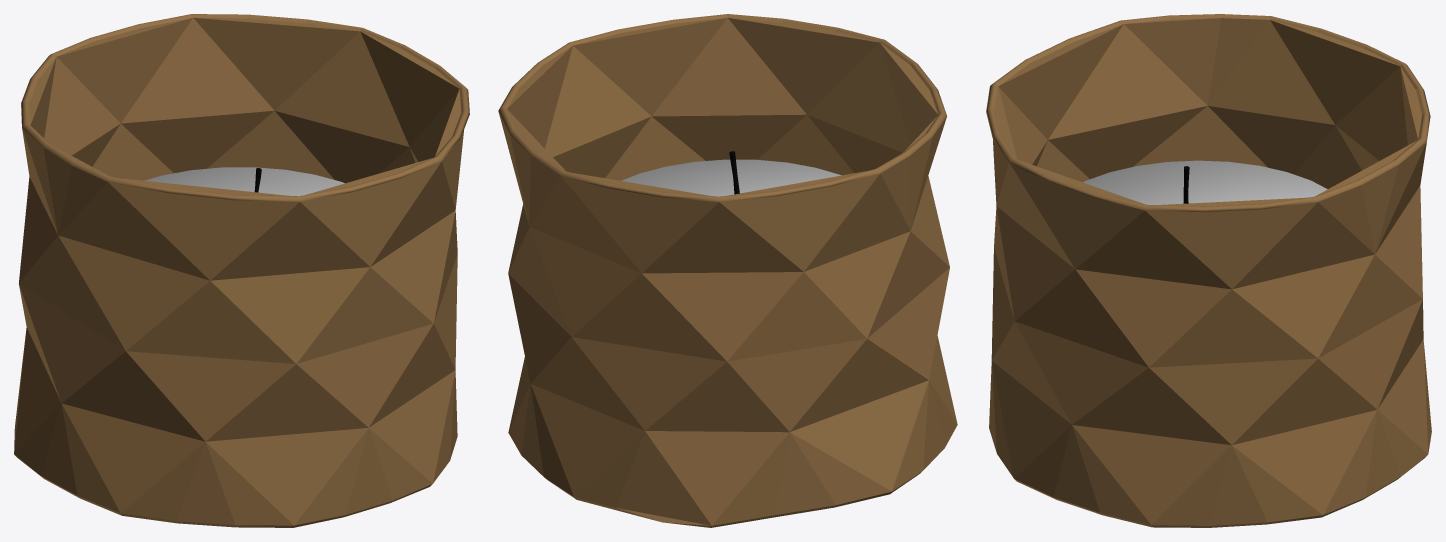
The model's file is Square05NH.obj.
3 renders of one model, left to right at view 1: azimuth 30°, elevation 25°; view 2: azimuth 150°, elevation 25°; view 3: azimuth 270°, elevation 25°, orthographic.
Visible parts, largest first — view 1: 円柱.006, 円柱.008; view 2: 円柱.006, 円柱.008; view 3: 円柱.006, 円柱.008.
Part boxes in pixels (x1,y1,x2,y2): 円柱.006: (14, 14, 469, 527); 円柱.008: (144, 167, 344, 196); 円柱.006: (498, 14, 957, 527); 円柱.008: (621, 151, 841, 196); 円柱.006: (986, 14, 1431, 527); 円柱.008: (1083, 160, 1327, 204).
Bounding box in the file's own units: 1.37 × 1.12 × 1.35.
